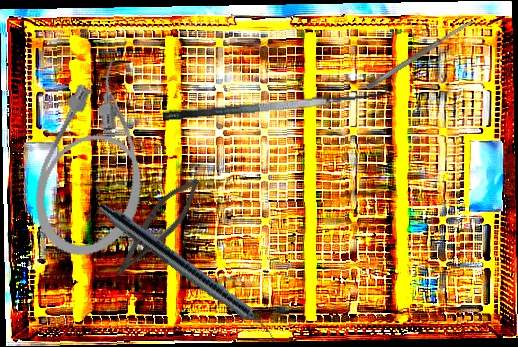Cannula: (19, 50, 177, 271)
Handpiece: (93, 199, 284, 346)
Micro Scissor: (107, 168, 209, 288)
Spatula Surgical: (161, 76, 391, 123), (364, 18, 476, 91)
